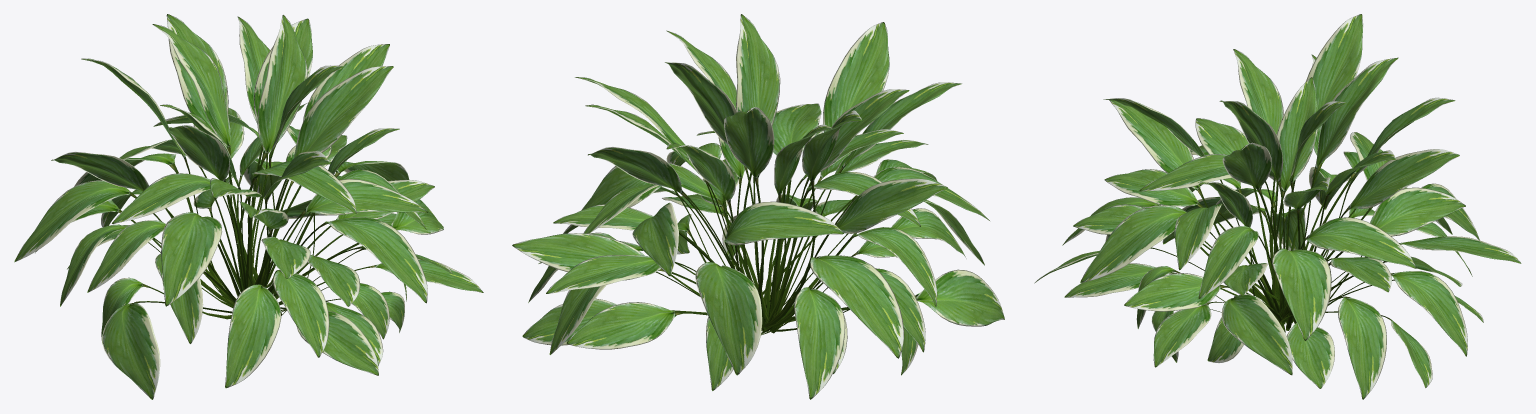
3 renders of one model, left to right at view 1: azimuth 30°, elevation 25°; view 2: azimuth 150°, elevation 25°; view 3: azimuth 270°, elevation 25°, orthographic. The views are drawn at different scales.
Parts seen in each view (by area): view 1: Hosta BK; view 2: Hosta BK; view 3: Hosta BK.
Part boxes in pixels (x1=…): Hosta BK: x1=14, y1=14, x2=483, y2=399; Hosta BK: x1=512, y1=14, x2=1004, y2=399; Hosta BK: x1=1034, y1=14, x2=1521, y2=399.
Size of the model in its own units: 0.5322 by 0.3512 by 0.6128.
Materials: 1 (1 with a texture image).
